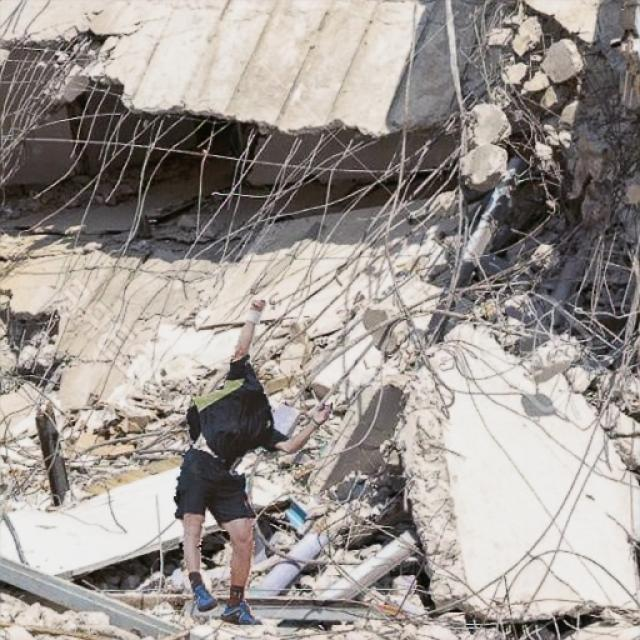Person in Rubble: (174, 300, 332, 624)
